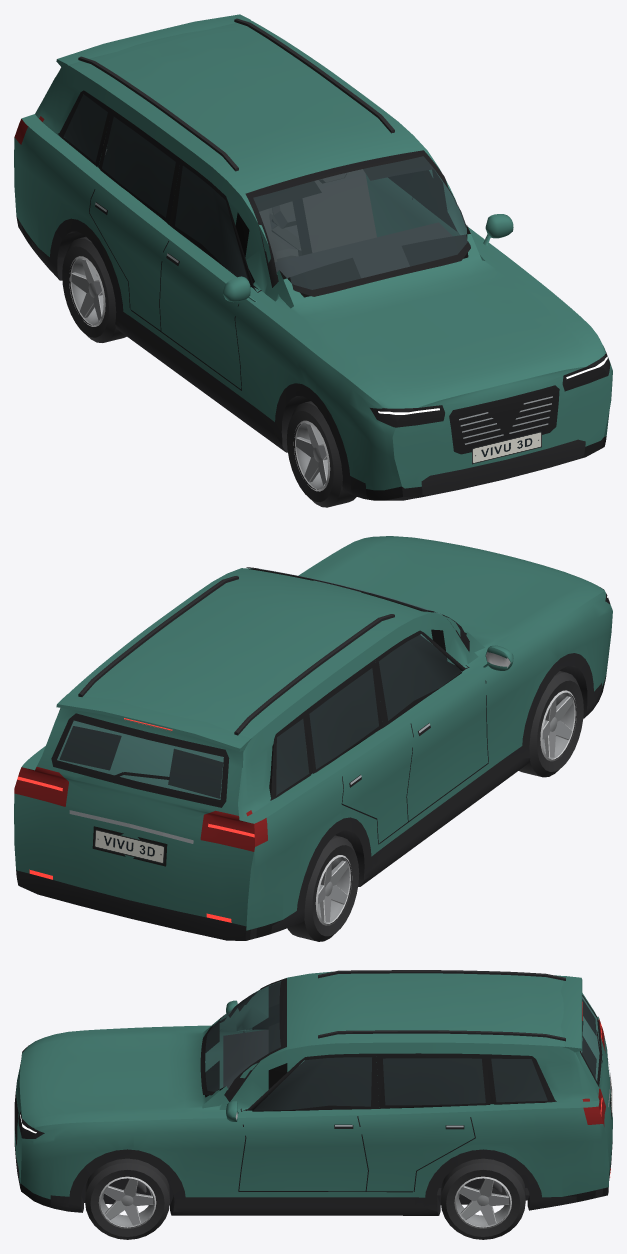
File: family-suv.glb
3 renders of one model, top to bottom at view 1: azimuth 30°, elevation 25°; view 2: azimuth 150°, elevation 25°; view 3: azimuth 270°, elevation 25°, orthographic. The views are drawn at different scales.
Visible parts, largest first — view 1: body, glass_windshield, glass_side_R, interior, wheel_FR_mesh, wheel_RR_mesh, body_fittings, roof_rails, spoiler, seven_seat_interior; view 2: body, glass_side_R, glass_rear, wheel_RR_mesh, wheel_FR_mesh, body_fittings, spoiler, roof_rails, glass_windshield, mirror_R; view 3: body, glass_side_L, glass_windshield, wheel_RL_mesh, wheel_FL_mesh, roof_rails, interior, spoiler, glass_rear, body_fittings.
Boxes of the visible parts, x1,y1,x2,y2 form: body: (14, 20, 612, 500); glass_windshield: (245, 150, 470, 296); glass_side_R: (58, 90, 256, 291); interior: (259, 169, 452, 277); wheel_FR_mesh: (286, 401, 356, 507); wheel_RR_mesh: (62, 236, 126, 342); body_fittings: (89, 189, 552, 464); roof_rails: (78, 18, 394, 171); spoiler: (56, 14, 250, 66); seven_seat_interior: (103, 144, 346, 261); body: (14, 536, 612, 940); glass_side_R: (270, 630, 468, 800); glass_rear: (51, 713, 229, 807); wheel_RR_mesh: (287, 835, 359, 941); wheel_FR_mesh: (519, 671, 583, 777); body_fittings: (29, 665, 488, 922); spoiler: (56, 694, 251, 751); roof_rails: (78, 576, 394, 735); glass_windshield: (246, 567, 469, 651); mirror_R: (483, 645, 513, 670); body: (14, 971, 612, 1215); glass_side_L: (242, 1053, 556, 1111); glass_windshield: (200, 978, 286, 1101); wheel_RL_mesh: (440, 1158, 525, 1239); wheel_FL_mesh: (85, 1158, 169, 1239); roof_rails: (318, 970, 565, 1041); interior: (223, 1029, 529, 1195); spoiler: (560, 976, 582, 1052); glass_rear: (580, 995, 602, 1087); body_fittings: (238, 1030, 612, 1192).
Bounding box in the file's own units: 2.19 × 1.77 × 4.99.
Materials: 20 (1 with a texture image).
